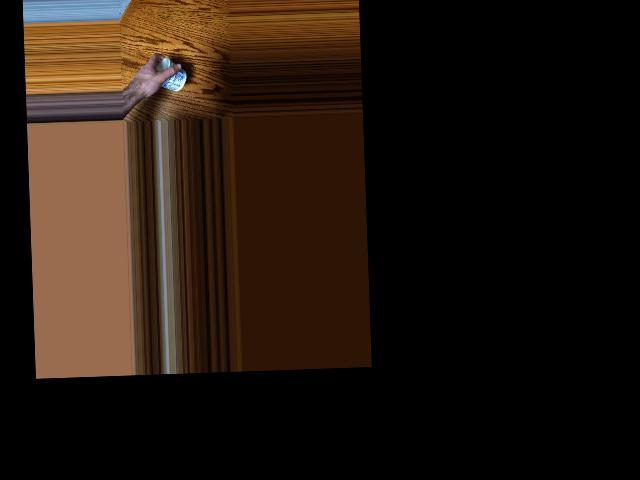cotage: (156, 55, 188, 95)
